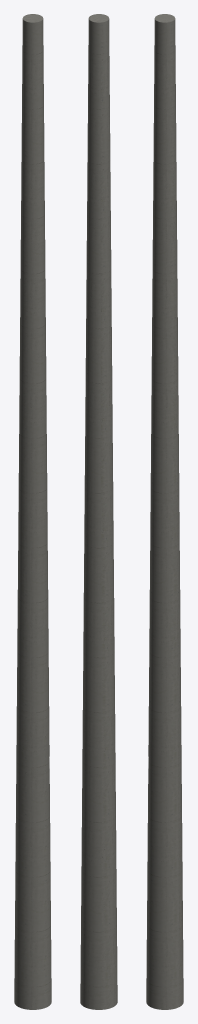
Rendered from ELE-IPU-001.glb.
The picture shows the model from 3 angles, left to right: view 1: azimuth 90°, elevation 25°; view 2: azimuth 150°, elevation 25°; view 3: azimuth 270°, elevation 25°; orthographic projection.
Parts seen in each view (by area): view 1: ELE-IPU-001_poste; view 2: ELE-IPU-001_poste; view 3: ELE-IPU-001_poste.
Boxes of the visible parts, left/top/right/bottom form: ELE-IPU-001_poste: left=14, top=14, right=51, bottom=1009; ELE-IPU-001_poste: left=80, top=14, right=117, bottom=1009; ELE-IPU-001_poste: left=146, top=14, right=183, bottom=1009.
Size of the model in its own units: 0.3098 by 9 by 0.3098.
3 materials, 1 textured.
